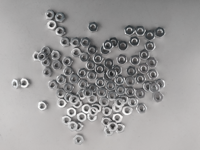nut: (155, 27, 166, 38), (117, 55, 128, 66), (155, 79, 166, 90), (153, 92, 164, 103), (38, 101, 49, 112), (20, 78, 31, 89), (88, 22, 99, 33), (74, 135, 85, 146), (103, 40, 114, 51), (99, 97, 110, 108), (106, 81, 117, 92), (115, 75, 126, 86), (125, 87, 136, 98), (128, 97, 139, 108), (122, 106, 133, 117), (102, 106, 113, 117), (126, 67, 138, 77), (106, 69, 118, 79), (115, 97, 125, 109), (145, 30, 155, 41), (145, 42, 156, 52), (140, 50, 150, 61), (147, 58, 158, 68), (130, 56, 141, 66), (118, 41, 129, 51), (139, 64, 150, 74), (148, 70, 159, 80), (150, 83, 160, 94), (144, 82, 154, 93), (135, 75, 146, 85), (48, 20, 58, 31), (56, 26, 66, 37), (60, 37, 71, 47), (63, 57, 74, 67), (71, 37, 81, 48), (87, 45, 98, 55), (79, 53, 90, 63), (42, 68, 53, 78), (48, 80, 58, 91), (78, 68, 88, 79), (93, 54, 104, 64), (87, 71, 98, 81), (69, 95, 80, 105), (83, 88, 93, 99), (67, 107, 77, 118), (82, 104, 92, 115), (95, 65, 106, 75), (97, 87, 107, 98), (116, 85, 126, 96), (119, 95, 130, 105), (135, 89, 146, 99), (136, 104, 147, 114), (106, 81, 116, 92), (112, 104, 123, 114), (107, 122, 118, 132), (125, 26, 135, 36), (130, 37, 140, 47), (45, 10, 55, 20), (81, 38, 91, 48), (72, 48, 82, 58), (41, 47, 51, 57), (52, 60, 62, 70), (57, 75, 67, 85), (56, 89, 66, 99), (70, 75, 80, 85), (64, 67, 74, 77), (86, 61, 96, 71), (77, 113, 87, 123), (62, 116, 72, 126), (68, 122, 78, 132), (89, 107, 99, 117), (104, 59, 114, 69), (96, 79, 106, 89), (112, 66, 122, 76), (126, 77, 136, 87), (102, 117, 112, 127), (113, 114, 123, 124), (115, 124, 125, 134), (107, 91, 117, 101), (78, 80, 89, 89), (136, 27, 146, 36), (12, 79, 21, 89), (55, 13, 65, 22), (38, 52, 47, 62), (51, 51, 61, 60), (64, 84, 74, 93), (57, 99, 67, 108), (77, 90, 86, 100), (88, 95, 98, 104), (73, 100, 83, 109), (88, 113, 97, 123), (74, 123, 84, 132), (92, 104, 102, 113), (88, 84, 98, 93), (109, 38, 119, 47), (101, 47, 111, 56), (104, 128, 114, 137), (33, 52, 42, 61), (104, 73, 113, 82), (65, 93, 73, 103), (42, 59, 51, 67)
